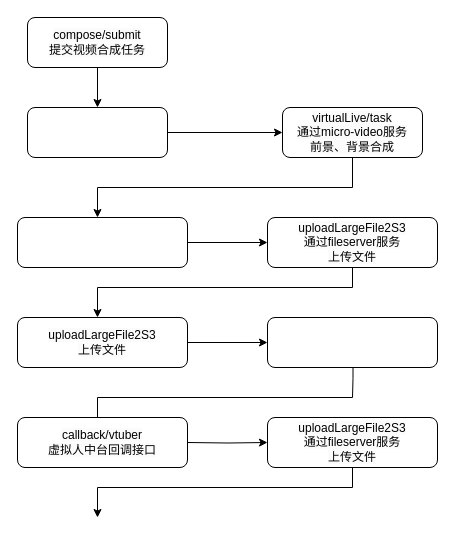
Image size: 455x543. Some labels were removed from this diagram. Each missing label, with the centre of its shape:
callback/microVideoCompose 短视频回调接口: point 102,242
push-broadcast 通过虚拟人中台sdk 提交虚拟人生成任务: point 352,342
TaskCompose Service.compose 前景、背景、任务合成: point 97,132
